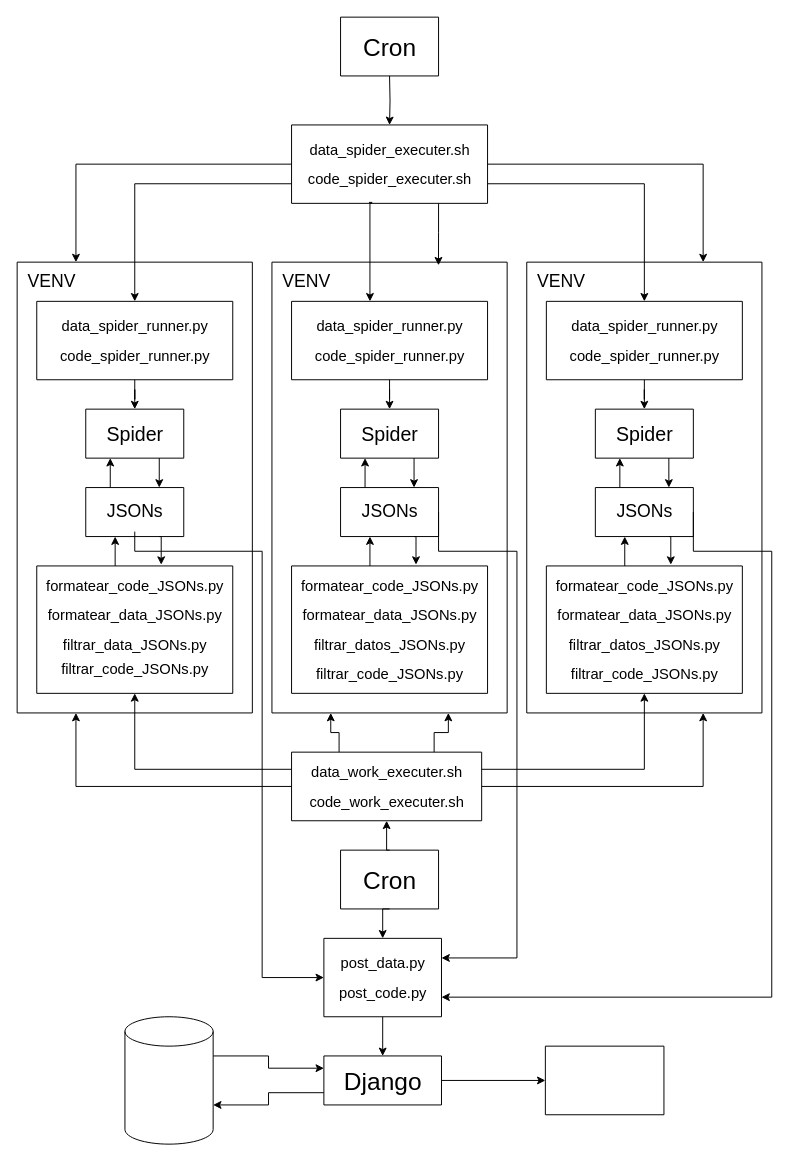
Some shapes in this 797 by 1161 pixel diagram are drawn without their labels. Here are the shapes that lost their labels. From the top down, the box of each, then its label:
(124, 1016, 213, 1144): PostGreSQL
(544, 1045, 664, 1115): App
